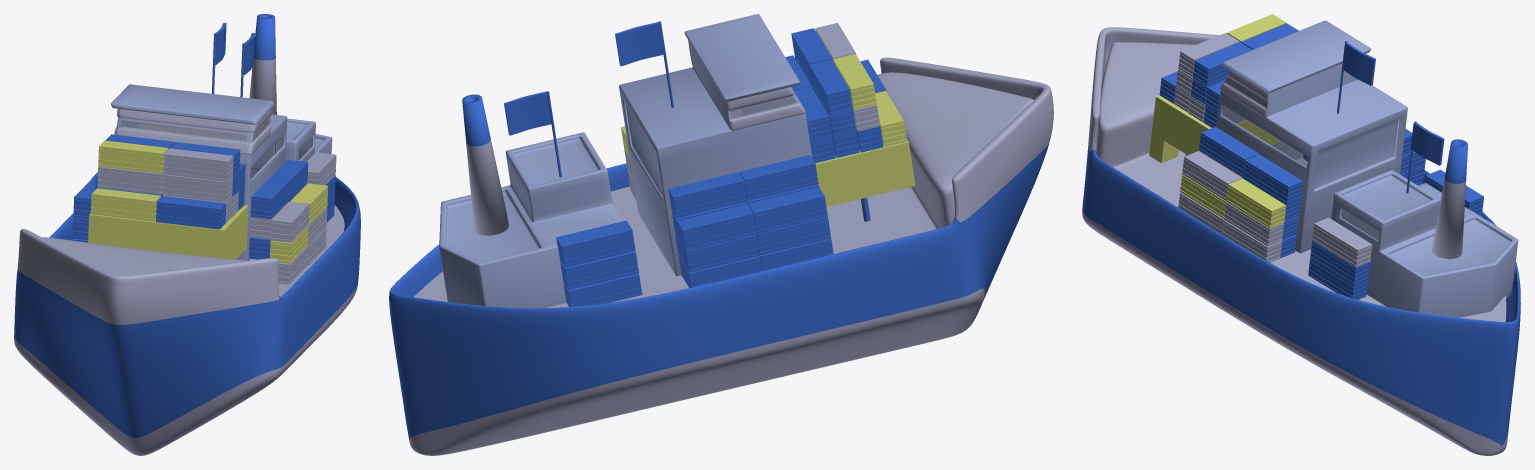
File: cargo-ship-3d-animated-icon-1556647563908.glb
The picture shows the model from 3 angles, left to right: view 1: azimuth 30°, elevation 25°; view 2: azimuth 150°, elevation 25°; view 3: azimuth 270°, elevation 25°; orthographic projection. The views are drawn at different scales.
Parts seen in each view (by area): view 1: body, container, pole, glass, Plane, Plane.001; view 2: body, container, pole, Plane.001, Plane; view 3: body, container, pole, glass, Plane, Plane.001.
Boxes of the visible parts, x1,y1,x2,y2 form: body: [14, 84, 360, 455]; container: [72, 134, 336, 284]; pole: [249, 14, 276, 114]; glass: [250, 135, 312, 178]; Plane: [243, 33, 255, 74]; Plane.001: [215, 22, 226, 64]; body: [389, 14, 1053, 455]; container: [556, 22, 907, 306]; pole: [462, 94, 509, 235]; Plane.001: [615, 22, 664, 66]; Plane: [504, 91, 551, 135]; body: [1082, 20, 1520, 455]; container: [1159, 14, 1483, 299]; pole: [1432, 139, 1467, 258]; glass: [1222, 106, 1379, 240]; Plane: [1410, 122, 1444, 165]; Plane.001: [1342, 42, 1375, 85].
Bounding box in the file's own units: 2.81 × 2.43 × 2.78.
